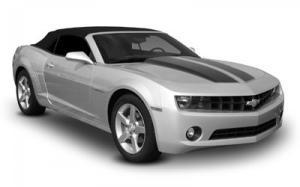car: (12, 27, 284, 166)
